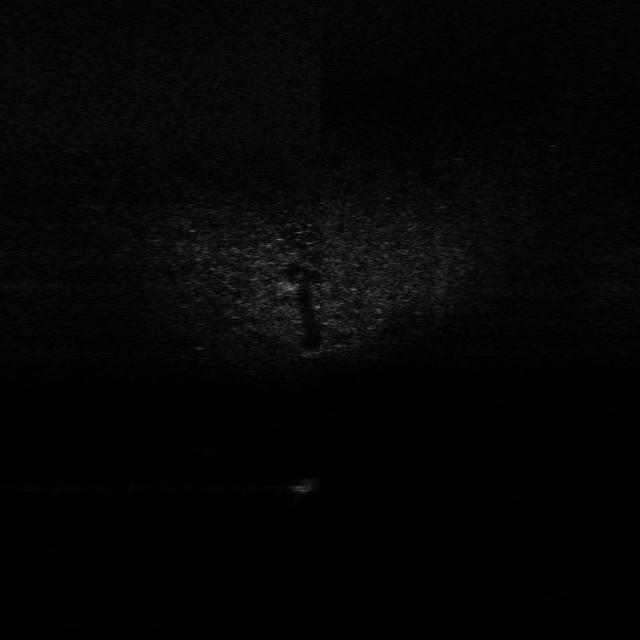cylinder: (291, 472, 327, 494)
